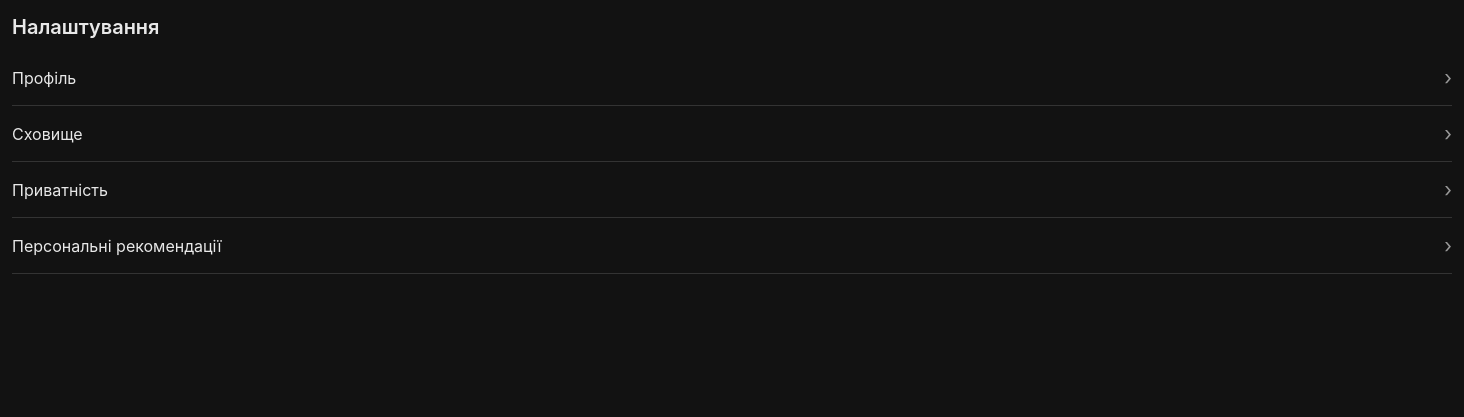
it: Settings › an unbound (local) profile offers the code entry and hides the sync switch
What coordinates should you click on to do the following:
click the button "Профіль ›"
I would click on:
 (44, 78)
Its box is [12,50,1452,106].
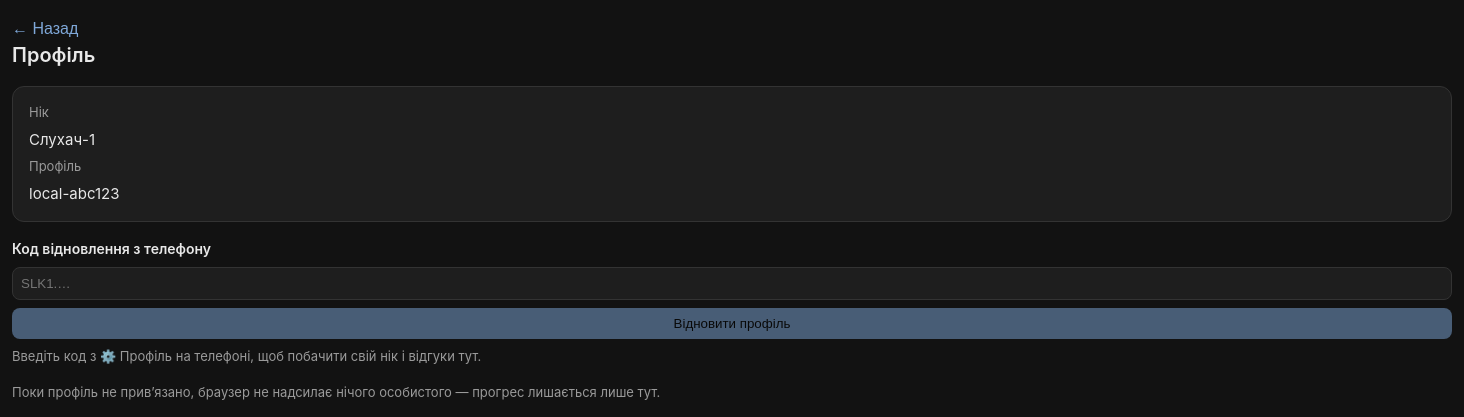
Check: the text "Введіть код з ⚙️ Профіль на телефоні" is shown, box [12,348,481,364]
Check: the text "Поки профіль не прив’язано" is shown, box [12,384,660,400]
